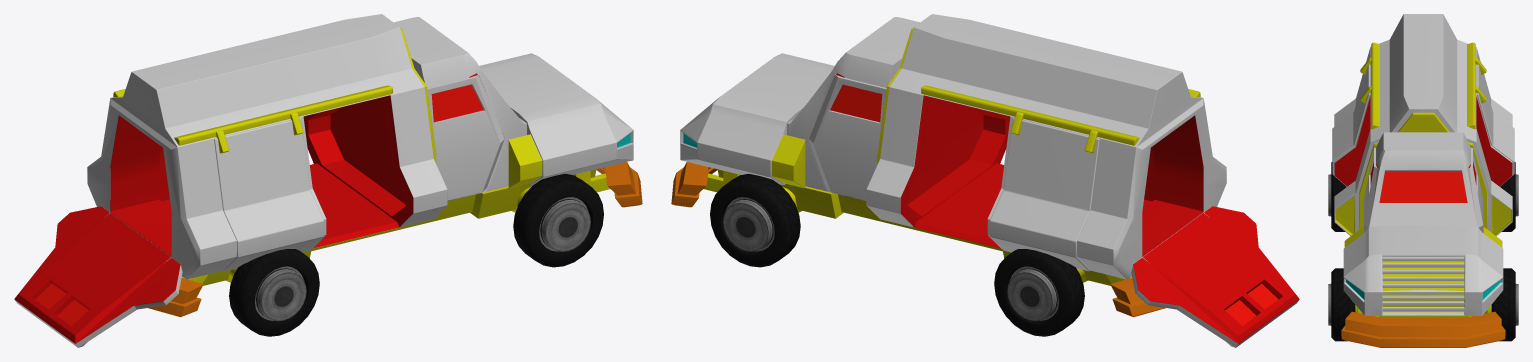
The model's file is SM_CivilianUtilityTruck2_Open.fbx.
The picture shows the model from 3 angles, left to right: view 1: azimuth 30°, elevation 25°; view 2: azimuth 150°, elevation 25°; view 3: azimuth 270°, elevation 25°; orthographic projection. The views are drawn at different scales.
Parts seen in each view (by area): view 1: MainBodyMesh, SideDoorMesh, MainBodyMesh.001, WheelMesh, CabinDoorMesh, CabinMesh, GlassMeshes, Glass_back; view 2: MainBodyMesh, SideDoorMesh, MainBodyMesh.001, WheelMesh, CabinDoorMesh, CabinMesh, GlassMeshes, Glass_back; view 3: MainBodyMesh, CabinMesh, SideDoorMesh, WheelMesh, FrontGlass, CabinDoorMesh.
Part boxes in pixels (x1,y1,x2,y2): MainBodyMesh: (87,14,642,317); SideDoorMesh: (113,85,392,271); MainBodyMesh.001: (14,206,182,347); WheelMesh: (229,173,603,336); CabinDoorMesh: (427,75,504,200); CabinMesh: (394,17,526,200); GlassMeshes: (431,84,483,122); Glass_back: (35,283,88,325); MainBodyMesh: (671,14,1226,317); SideDoorMesh: (921,85,1200,271); MainBodyMesh.001: (1131,206,1299,347); WheelMesh: (710,173,1084,336); CabinDoorMesh: (809,75,886,200); CabinMesh: (787,17,919,200); GlassMeshes: (830,84,882,122); Glass_back: (1225,283,1278,325); MainBodyMesh: (1334,14,1512,347); CabinMesh: (1369,132,1477,227); SideDoorMesh: (1332,42,1514,186); WheelMesh: (1328,162,1518,341); FrontGlass: (1379,171,1467,202); CabinDoorMesh: (1363,148,1483,232).
Size of the model in its own units: 583 by 215 by 229.
